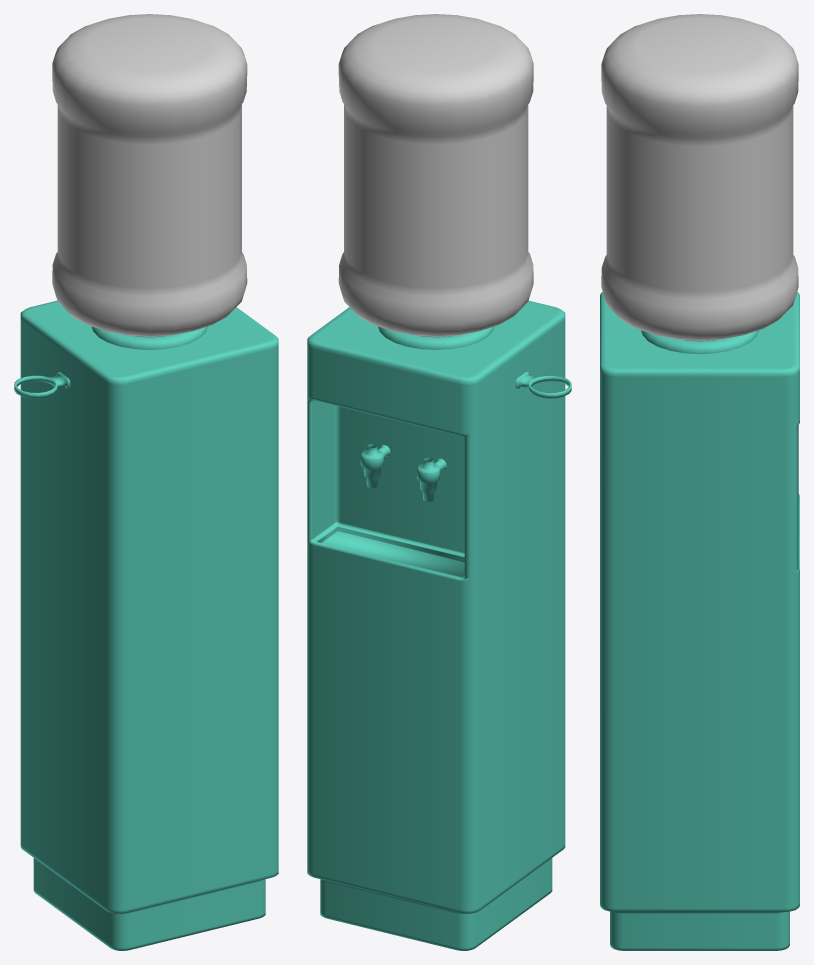
File: VMP_MOD_Water_cooler_01.fbx
The picture shows the model from 3 angles, left to right: view 1: azimuth 30°, elevation 25°; view 2: azimuth 150°, elevation 25°; view 3: azimuth 270°, elevation 25°; orthographic projection.
Visible parts, largest first — view 1: VMP_MOD_Water_cooler_01; view 2: VMP_MOD_Water_cooler_01; view 3: VMP_MOD_Water_cooler_01.
Part boxes in pixels (x1,y1,x2,y2): VMP_MOD_Water_cooler_01: [14, 14, 278, 950]; VMP_MOD_Water_cooler_01: [307, 14, 571, 950]; VMP_MOD_Water_cooler_01: [600, 14, 799, 950].
Bounding box in the file's own units: 0.3967 × 1.49 × 0.3107.
